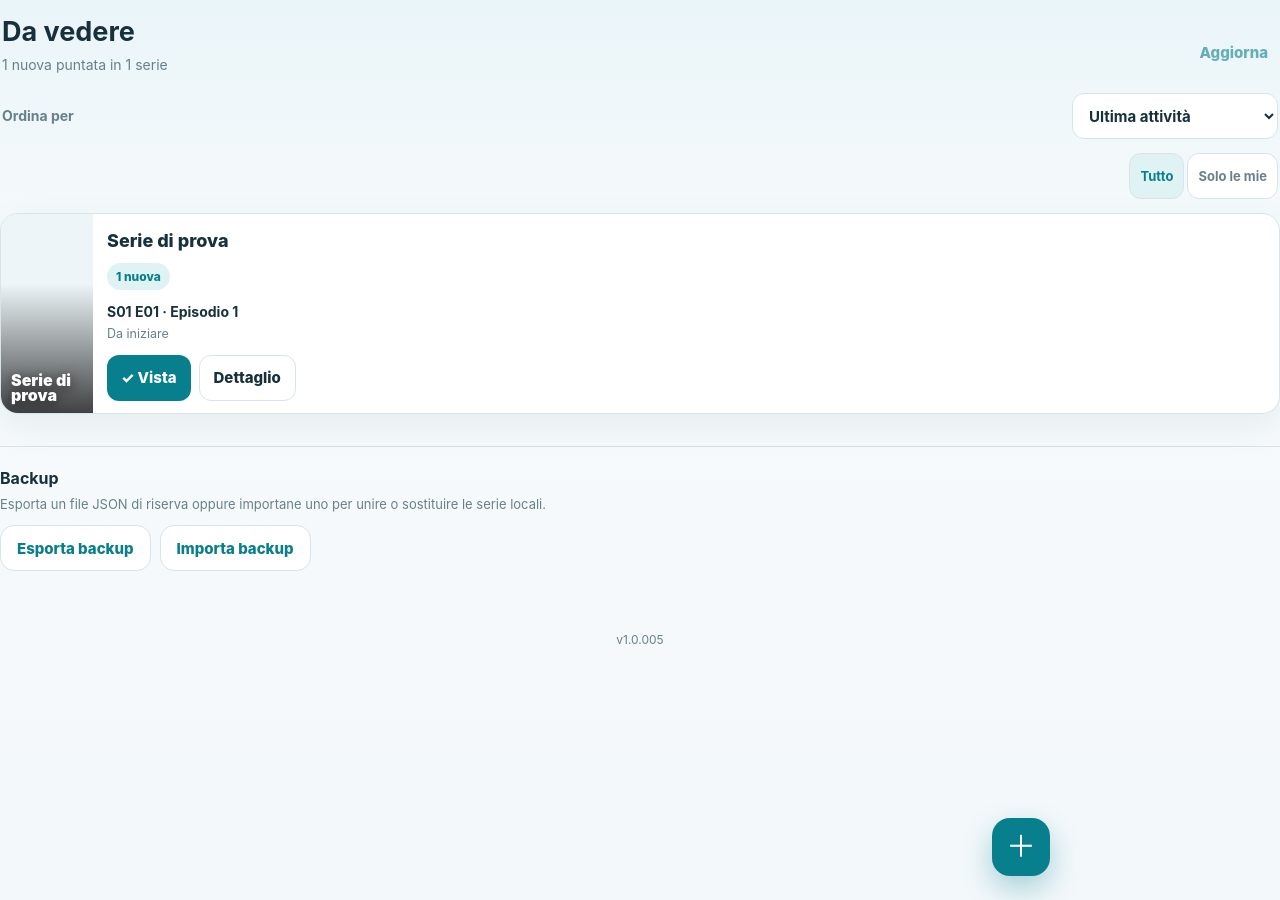
it: HomeView — senza rete (criterio 9) › mostra la lista e permette di avanzare la posizione anche quando il catalogo remoto non è raggiungibile
The image size is (1280, 900).
Expected: the number of elements with class "show" is 1, [0,213,1279,414]
Click the button "✓ Vista" at (149, 378), box [107,355,190,401]
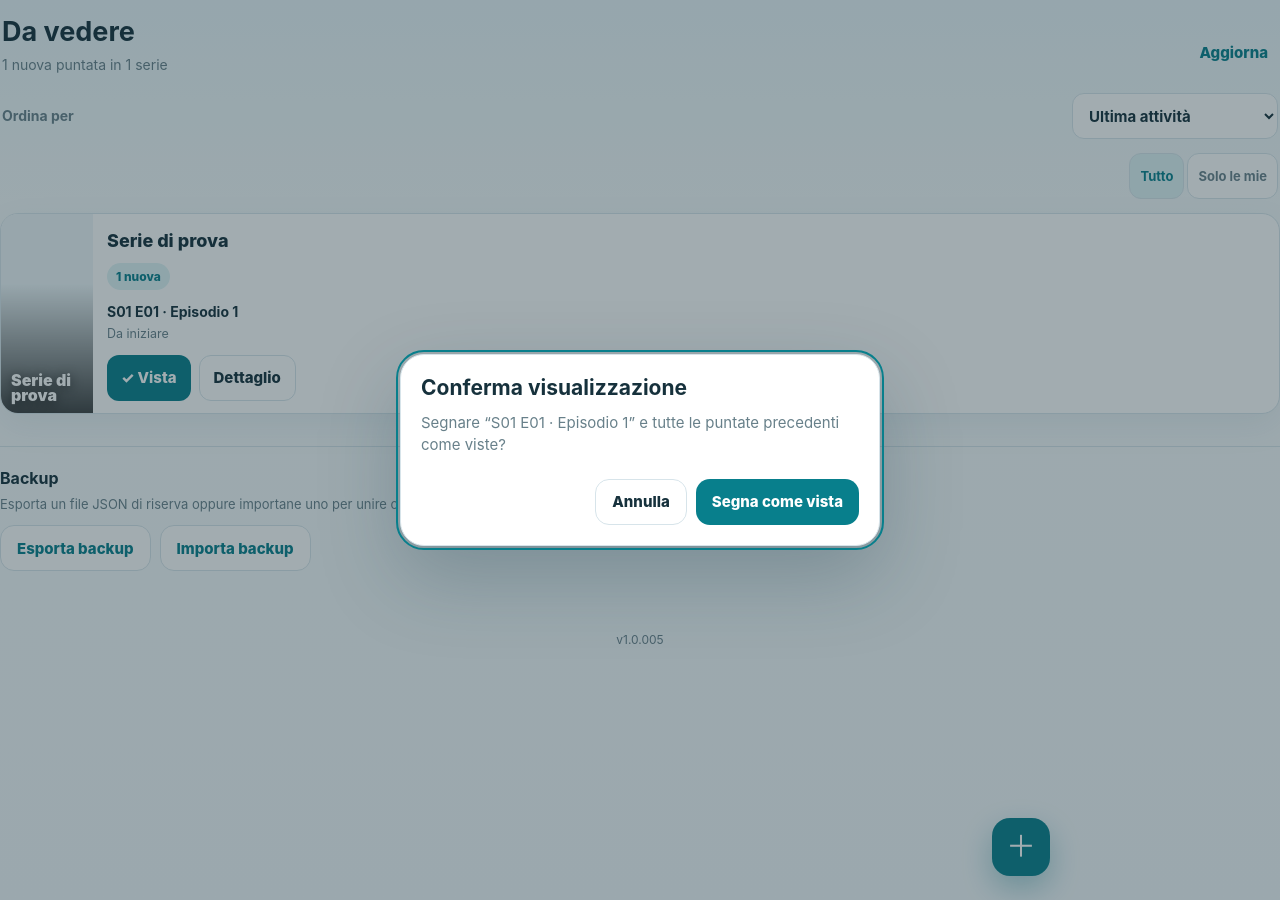
Click the button with class "accept-confirm" at (777, 502), box [696,479,859,525]
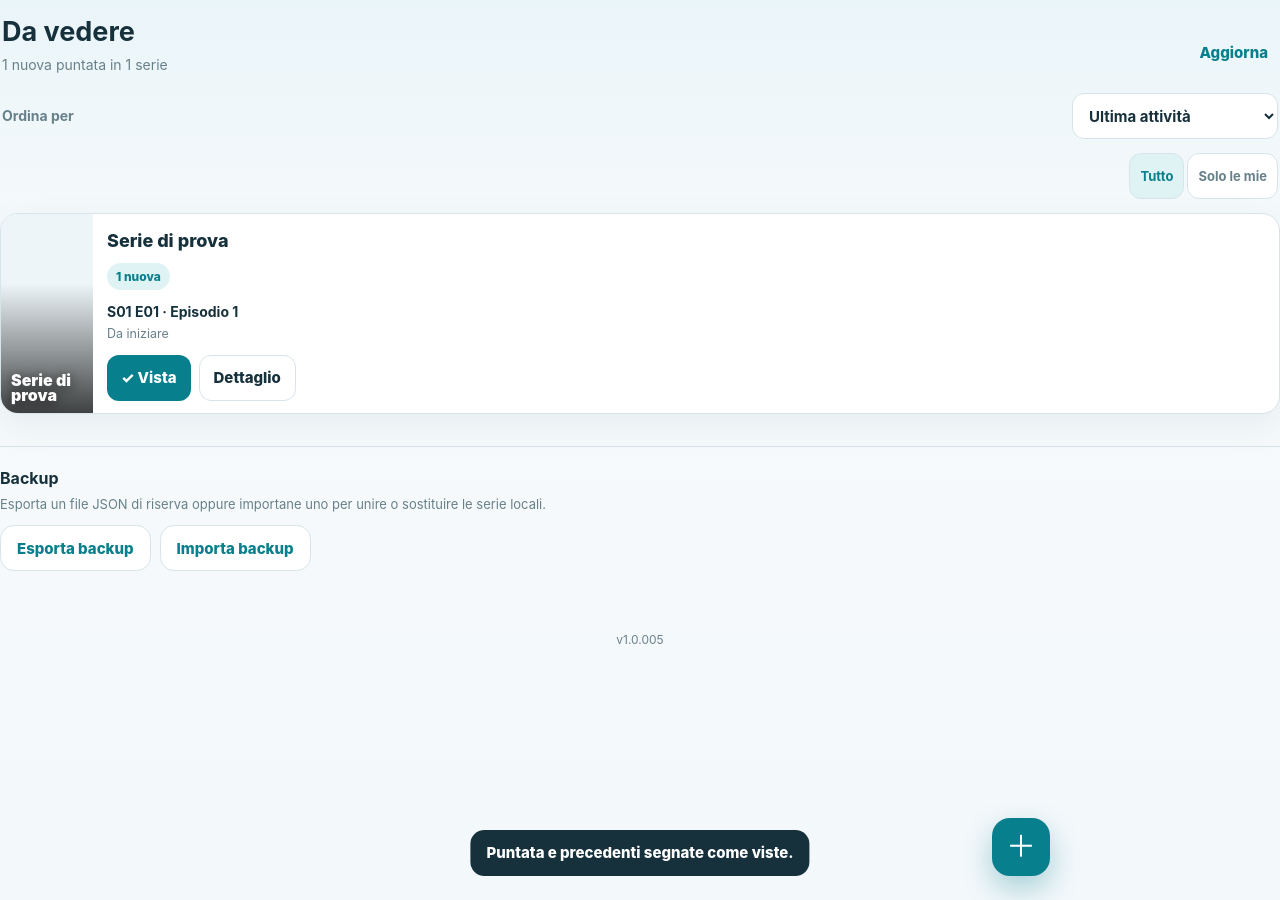
Now the text "Puntata e precedenti segnate come viste." is shown, box [470,830,810,876]
